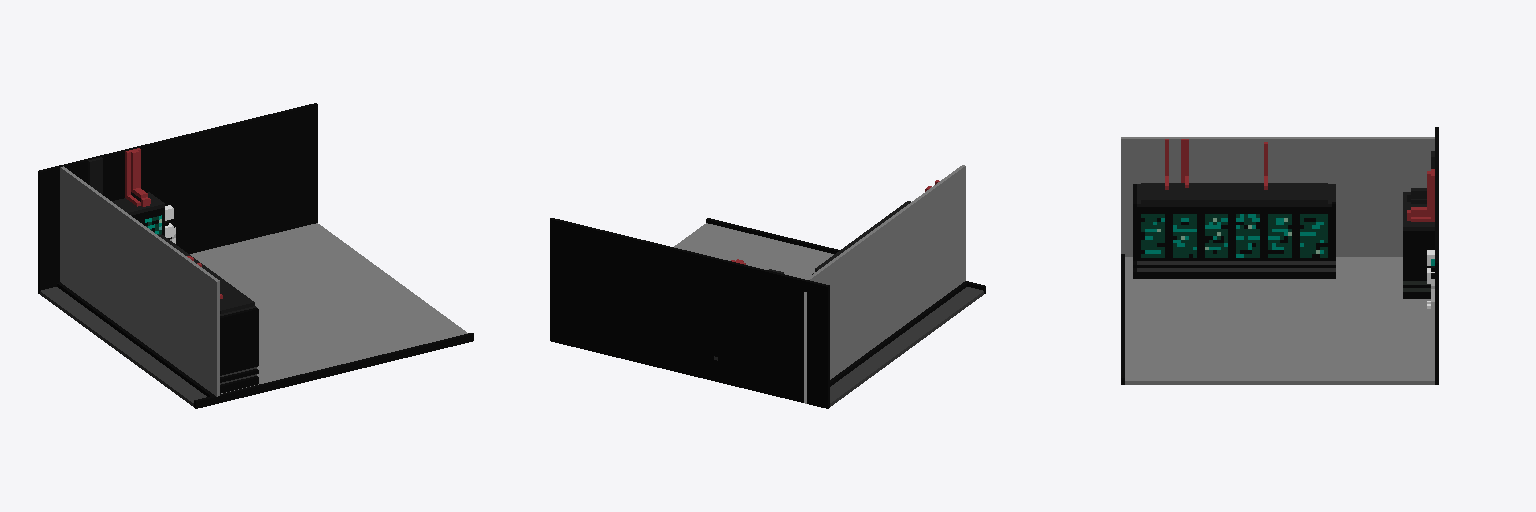
The picture shows the model from 3 angles: view 1: azimuth 30°, elevation 25°; view 2: azimuth 150°, elevation 25°; view 3: azimuth 270°, elevation 25°; orthographic projection.
Size of the model in its own units: 81 by 34 by 80.
1 materials, 1 textured.